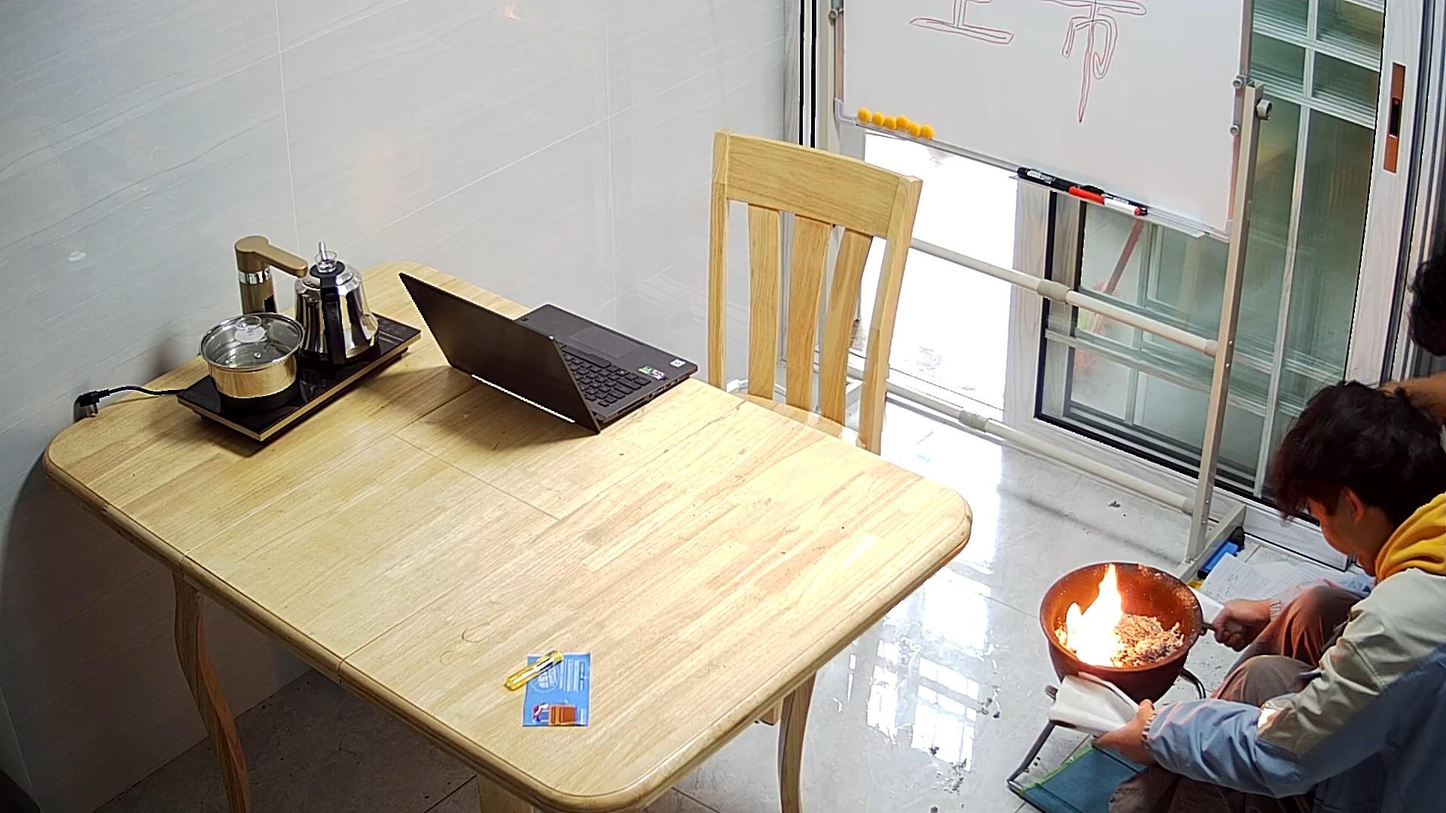fire: (1068, 563, 1123, 665)
